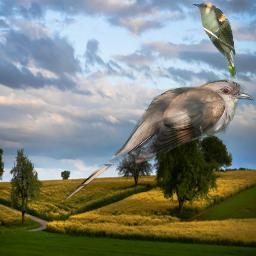Cuckoo: (65, 79, 254, 201), (190, 1, 238, 80)
